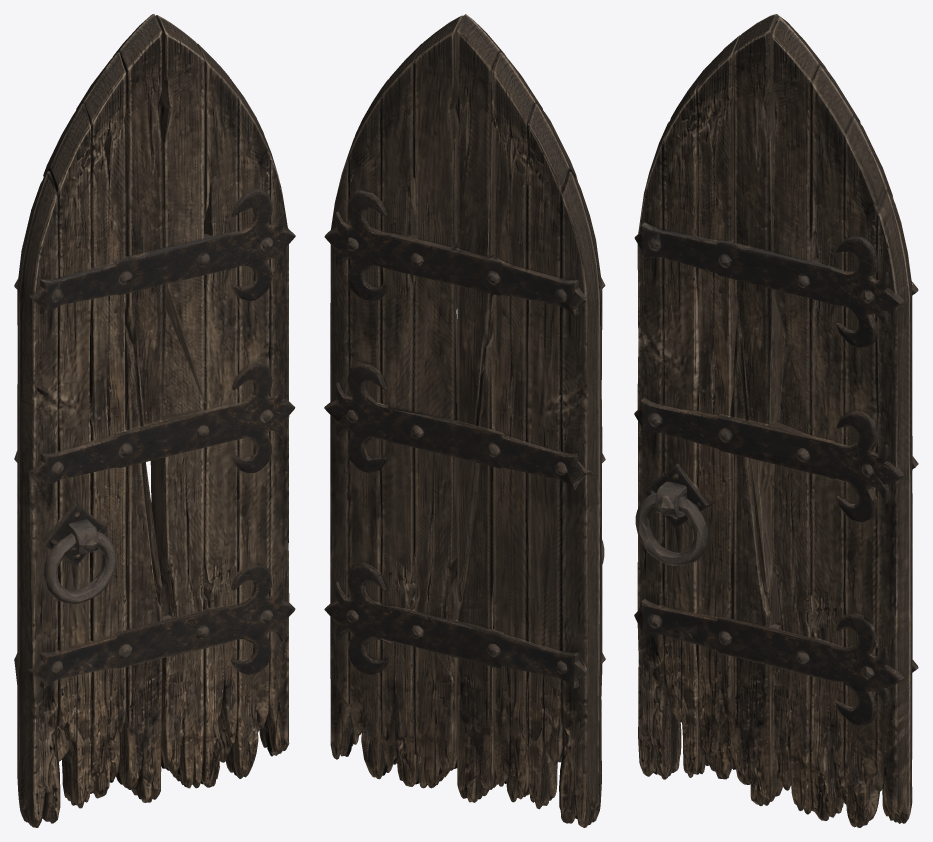
File: door_leaf.glb
3 views of the same model, side by side, from view 1: azimuth 30°, elevation 25°; view 2: azimuth 150°, elevation 25°; view 3: azimuth 330°, elevation 25° (orthographic).
Parts seen in each view (by area): view 1: Mesh_0; view 2: Mesh_0; view 3: Mesh_0.
Part boxes in pixels (x1,y1,x2,y2): Mesh_0: (14, 14, 295, 827); Mesh_0: (324, 14, 605, 827); Mesh_0: (634, 14, 918, 827).
Size of the model in its own units: 0.6781 by 1.9 by 0.1748.
1 material, 1 textured.
